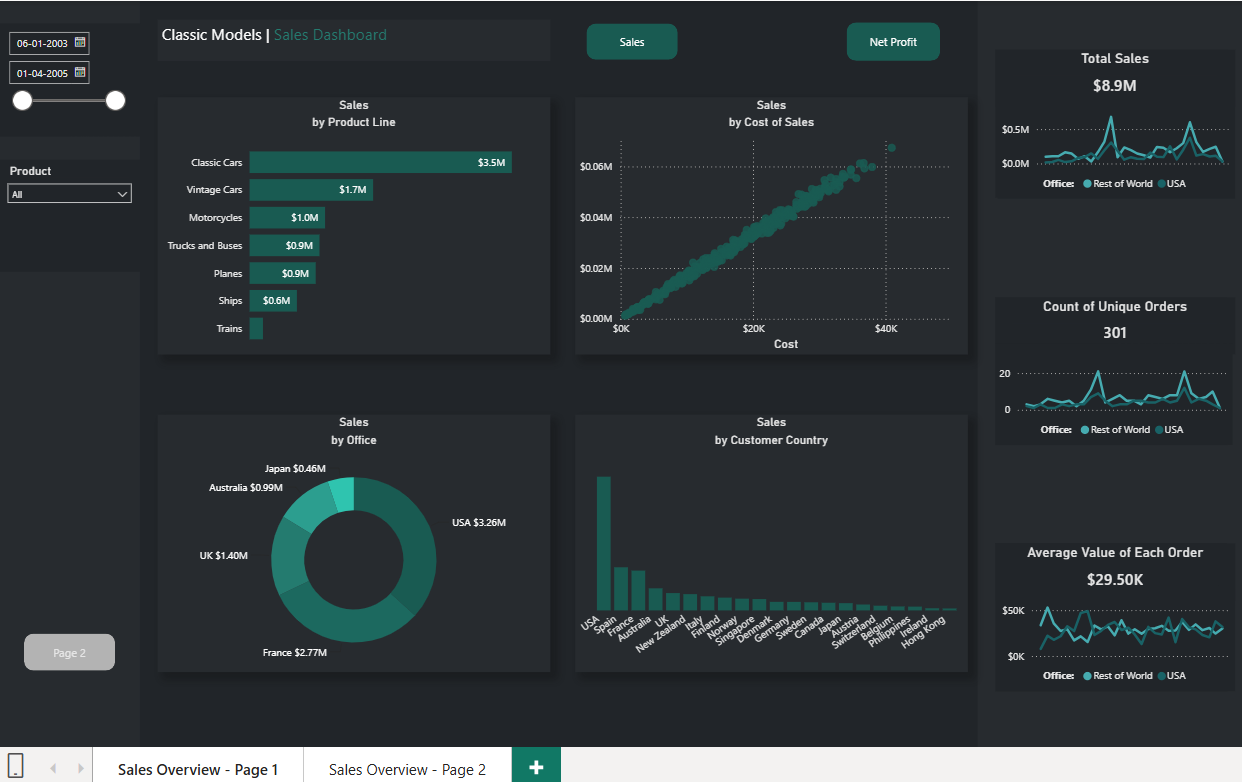

Layout of this report page (visuals, bound fields, positions):
{"tool":"powerbi","page":{"name":"Sales Overview - Page 1","canvas":[1500,900],"ordinal":0},"visuals":[{"type":"shape","box":[0,0,170,900],"z":0},{"type":"shape","box":[1180.3,0,320,900.5],"z":1000},{"type":"shape","box":[1201.2,59.5,279.8,178.5],"z":2000},{"type":"shape","box":[1201.2,357,279.8,178.5],"z":3000},{"type":"shape","box":[1201.2,654.5,279.8,178.5],"z":4000},{"type":"cardVisual","title":"Total Sales","fields":{"Data":["Sum(classicmodels sales_data_for_power_bi.sales_value)"]},"box":[1201.2,59.5,289.5,69.1],"z":5000},{"type":"cardVisual","title":"Average Value of Each Order","fields":{"Data":["classicmodels sales_data_for_power_bi.Average Sales Value Per Order"]},"box":[1201.2,654.5,289.5,69.1],"z":6000},{"type":"cardVisual","title":"Count of Unique Orders","fields":{"Data":["Count(classicmodels sales_data_for_power_bi.orderNumber)"]},"box":[1201.2,357,289.5,69.1],"z":7000},{"type":"lineChart","fields":{"Y":["Sum(classicmodels sales_data_for_power_bi.sales_value)"],"Category":["classicmodels sales_data_for_power_bi.orderDate.Variation.Date Hierarchy.Year","classicmodels sales_data_for_power_bi.orderDate.Variation.Date Hierarchy.Quarter","classicmodels sales_data_for_power_bi.orderDate.Variation.Date Hierarchy.Month"],"Series":["classicmodels sales_data_for_power_bi.Office Grouped"]},"box":[1204.4,115.8,286.2,122.2],"z":8000},{"type":"lineChart","fields":{"Category":["classicmodels sales_data_for_power_bi.orderDate.Variation.Date Hierarchy.Year","classicmodels sales_data_for_power_bi.orderDate.Variation.Date Hierarchy.Quarter","classicmodels sales_data_for_power_bi.orderDate.Variation.Date Hierarchy.Month"],"Series":["classicmodels sales_data_for_power_bi.Office Grouped"],"Y":["Count(classicmodels sales_data_for_power_bi.orderNumber)"]},"box":[1201.2,413.3,286.2,122.2],"z":9000},{"type":"lineChart","fields":{"Category":["classicmodels sales_data_for_power_bi.orderDate.Variation.Date Hierarchy.Year","classicmodels sales_data_for_power_bi.orderDate.Variation.Date Hierarchy.Quarter","classicmodels sales_data_for_power_bi.orderDate.Variation.Date Hierarchy.Month"],"Series":["classicmodels sales_data_for_power_bi.Office Grouped"],"Y":["classicmodels sales_data_for_power_bi.Average Sales Value Per Order"]},"box":[1204.4,710.8,286.2,122.2],"z":10000},{"type":"clusteredBarChart","fields":{"Y":["Table.Selected Metric"],"Category":["classicmodels sales_data_for_power_bi.productLine"]},"box":[191.5,116.1,473.5,310.7],"z":11000},{"type":"shape","box":[708.8,27.1,110.1,43.7],"z":13000},{"type":"shape","box":[1022.5,25.6,113.1,46.7],"z":14000},{"type":"columnChart","fields":{"Y":["Table.Selected Metric"],"Category":["classicmodels sales_data_for_power_bi.customer_country"]},"box":[695.2,499.2,473.5,310.7],"z":15000},{"type":"scatterChart","fields":{"Y":["Table.Selected Metric"],"X":["Sum(classicmodels sales_data_for_power_bi.cost_of_sales)"],"Category":["classicmodels sales_data_for_power_bi.orderNumber"]},"box":[695.2,116.1,473.5,310.7],"z":16000},{"type":"donutChart","fields":{"Y":["Table.Selected Metric"],"Category":["classicmodels sales_data_for_power_bi.office_country"]},"box":[191.5,499.2,473.5,310.7],"z":17000},{"type":"textbox","box":[191.5,22.6,473.5,49.8],"z":18000},{"type":"shape","box":[30,763.3,110,45],"z":19000},{"type":"slicer","fields":{"Values":["classicmodels sales_data_for_power_bi.orderDate"]},"box":[0,26.7,170,135],"z":20000},{"type":"slicer","fields":{"Values":["classicmodels sales_data_for_power_bi.productName"]},"box":[0,191.7,170,135],"z":21000}]}

Visuals, with their boxes on the page's 1500x900 design canvas (x1, y1, x2, y2). These are canvas units, not pixel positions in the 1242x782 screenshot, which may show the page scaled, cropped or inside an application window:
shape: 0/0/170/900
shape: 1180/0/1500/900
shape: 1201/60/1481/238
shape: 1201/357/1481/536
shape: 1201/654/1481/833
"Total Sales" cardVisual: 1201/60/1491/129
"Average Value of Each Order" cardVisual: 1201/654/1491/724
"Count of Unique Orders" cardVisual: 1201/357/1491/426
lineChart - Sum(classicmodels sales_data_for_power_bi.sales_value) x classicmodels sales_data_for_power_bi.orderDate.Variation.Date Hierarchy.Year: 1204/116/1491/238
lineChart - classicmodels sales_data_for_power_bi.orderDate.Variation.Date Hierarchy.Year x classicmodels sales_data_for_power_bi.orderDate.Variation.Date Hierarchy.Quarter: 1201/413/1487/536
lineChart - classicmodels sales_data_for_power_bi.orderDate.Variation.Date Hierarchy.Year x classicmodels sales_data_for_power_bi.orderDate.Variation.Date Hierarchy.Quarter: 1204/711/1491/833
clusteredBarChart - Table.Selected Metric x classicmodels sales_data_for_power_bi.productLine: 192/116/665/427
shape: 709/27/819/71
shape: 1022/26/1136/72
columnChart - Table.Selected Metric x classicmodels sales_data_for_power_bi.customer_country: 695/499/1169/810
scatterChart - Table.Selected Metric x Sum(classicmodels sales_data_for_power_bi.cost_of_sales): 695/116/1169/427
donutChart - Table.Selected Metric x classicmodels sales_data_for_power_bi.office_country: 192/499/665/810
textbox: 192/23/665/72
shape: 30/763/140/808
slicer - classicmodels sales_data_for_power_bi.orderDate: 0/27/170/162
slicer - classicmodels sales_data_for_power_bi.productName: 0/192/170/327
